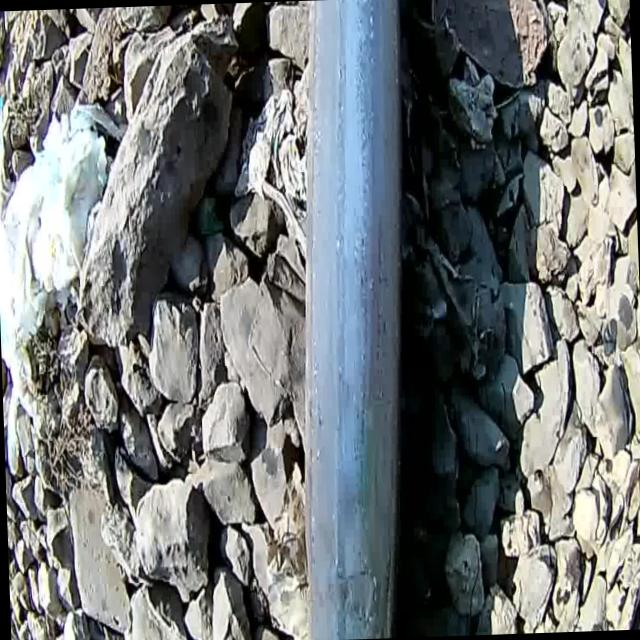Squats: (328, 551, 388, 640)
